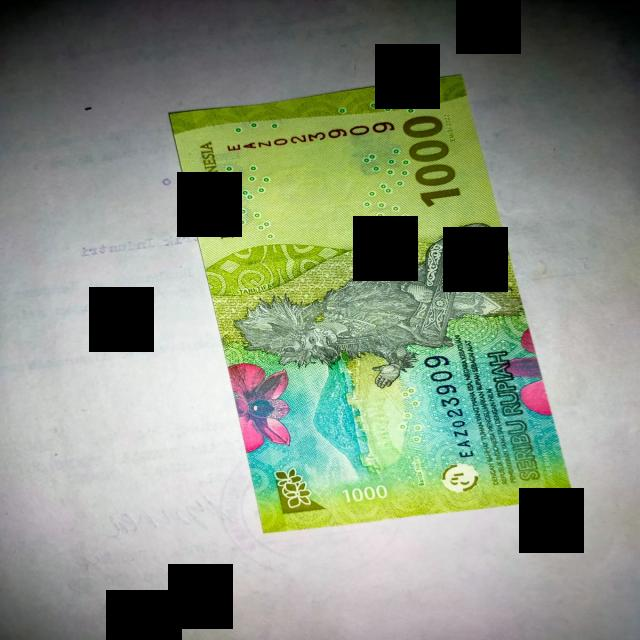seribu rupiah: (170, 75, 572, 532)
